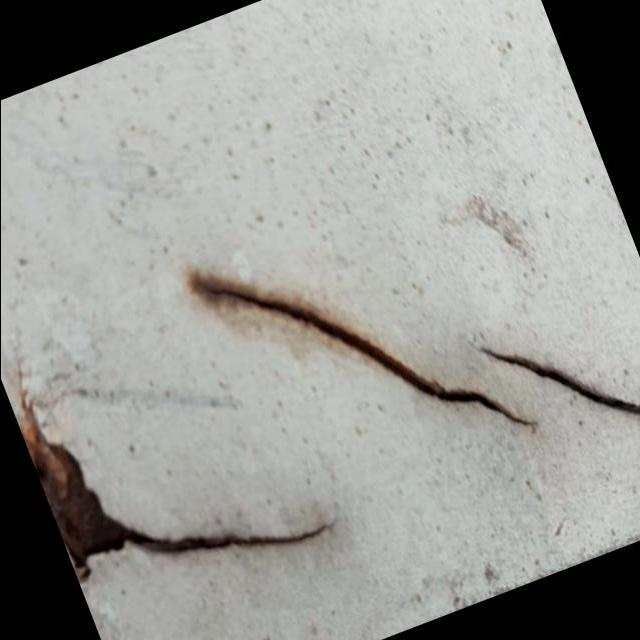defect: (177, 264, 540, 433), (455, 339, 640, 421), (103, 501, 345, 560)
